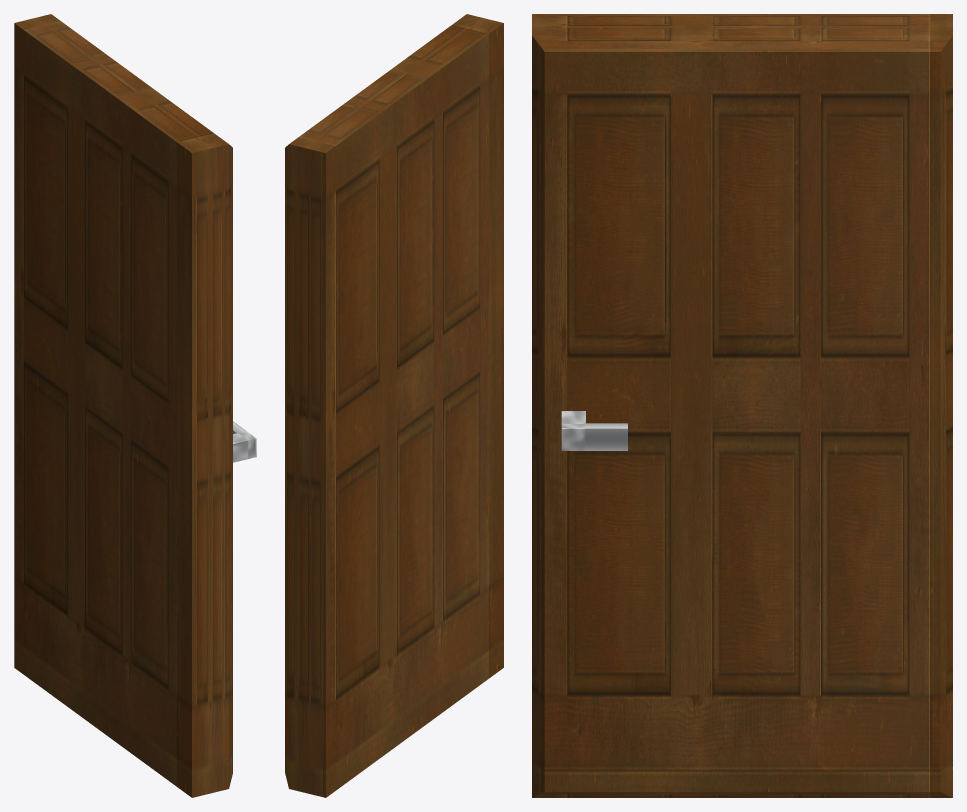
File: door-with-animation.glb
3 renders of one model, left to right at view 1: azimuth 30°, elevation 25°; view 2: azimuth 150°, elevation 25°; view 3: azimuth 270°, elevation 25°, orthographic. The views are drawn at different scales.
Parts seen in each view (by area): view 1: Cube, Cube.001; view 2: Cube; view 3: Cube, Cube.001.
Boxes of the visible parts, x1,y1,x2,y2 form: Cube: (14, 14, 232, 797); Cube.001: (233, 421, 256, 462); Cube: (285, 14, 503, 797); Cube: (532, 14, 952, 797); Cube.001: (561, 411, 627, 450).
Size of the model in its own units: 0.5004 by 4 by 2.
Materials: 2 (2 with a texture image).
